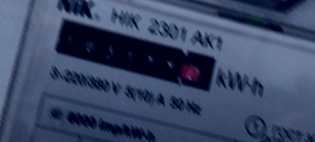0: (59, 30, 75, 51), (81, 34, 95, 55)
1: (123, 42, 135, 62)
3: (102, 41, 113, 62)
6: (182, 68, 194, 85)
9: (161, 55, 174, 75), (142, 49, 154, 68)
screen: (44, 13, 224, 100)
